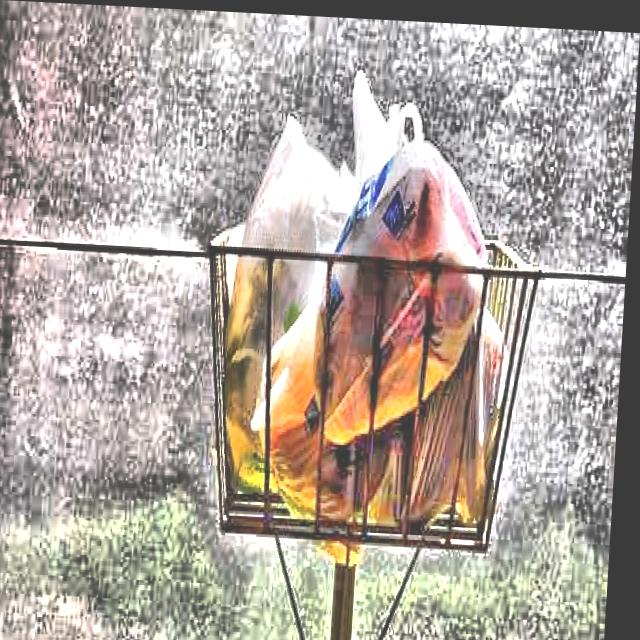Plastic: (194, 91, 371, 427), (318, 105, 497, 434), (252, 271, 417, 599)
